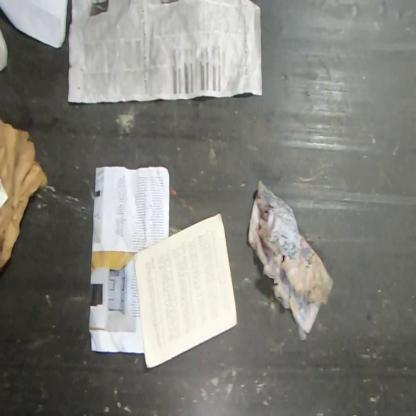cardboard: (0, 118, 48, 276)
